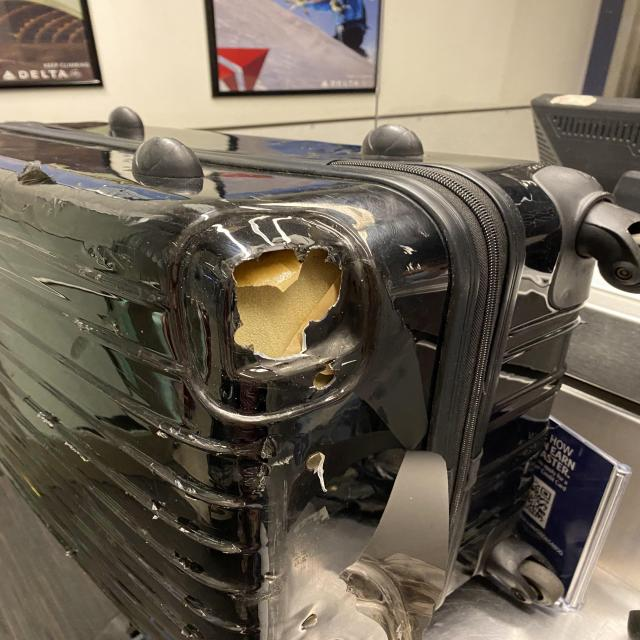Damage-bag: (227, 235, 448, 640), (173, 590, 248, 634), (160, 550, 212, 582), (160, 605, 203, 639), (147, 500, 192, 532), (147, 540, 162, 550), (213, 580, 223, 589)
